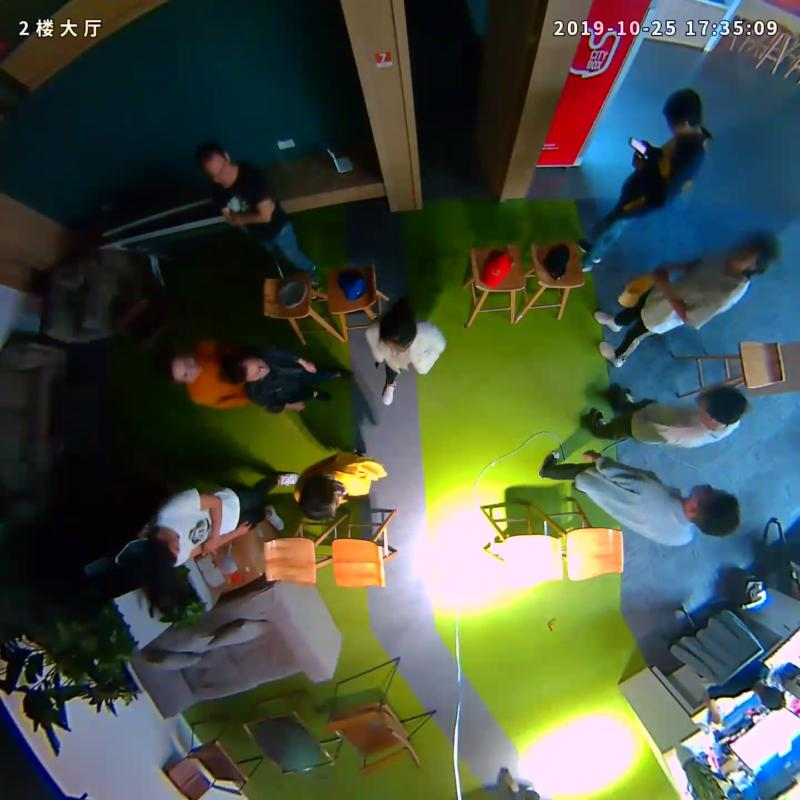head: (690, 484, 740, 537), (695, 387, 749, 430), (728, 231, 777, 278), (300, 476, 346, 524), (663, 88, 704, 137), (194, 141, 235, 187), (222, 349, 272, 386), (139, 527, 181, 570), (379, 309, 416, 354), (162, 354, 205, 385)
